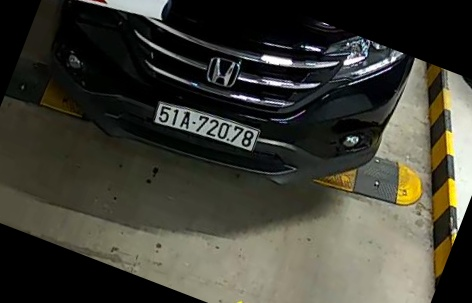plate: (147, 99, 262, 160)
